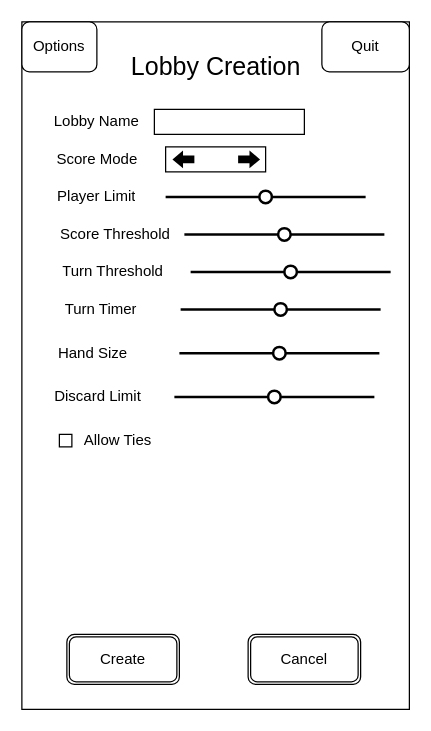
Some shapes in this 431 by 731 pixel diagram are drawn without their labels. The box of each missing label's shape, as (x1, y1, x2, y2) in pixels:
Mode: (164, 146, 266, 172)
Name Field: (153, 108, 304, 134)
